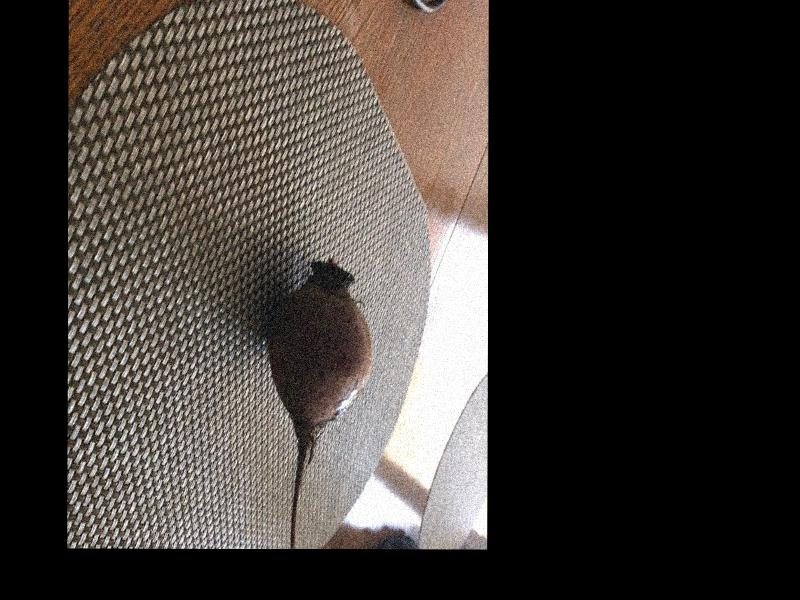Beet: (269, 260, 372, 546)
